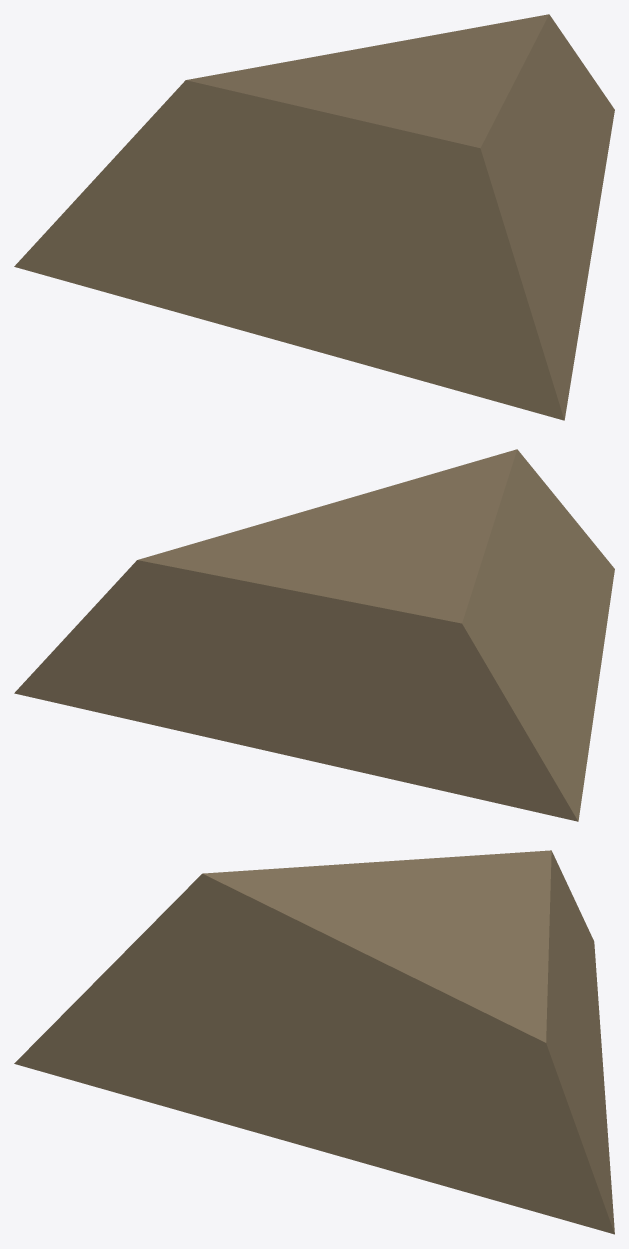
The model's file is TB_D_Env_StoneD_C.FBX.
The picture shows the model from 3 angles, top to bottom: view 1: azimuth 30°, elevation 25°; view 2: azimuth 150°, elevation 25°; view 3: azimuth 270°, elevation 25°; orthographic projection. The views are drawn at different scales.
Parts seen in each view (by area): view 1: TB_D_Env_StoneD_C; view 2: TB_D_Env_StoneD_C; view 3: TB_D_Env_StoneD_C.
Part boxes in pixels (x1=…): TB_D_Env_StoneD_C: x1=14, y1=14, x2=614, y2=420; TB_D_Env_StoneD_C: x1=14, y1=449, x2=614, y2=821; TB_D_Env_StoneD_C: x1=14, y1=850, x2=614, y2=1234.
Size of the model in its own units: 0.3267 by 0.1018 by 0.2831.
